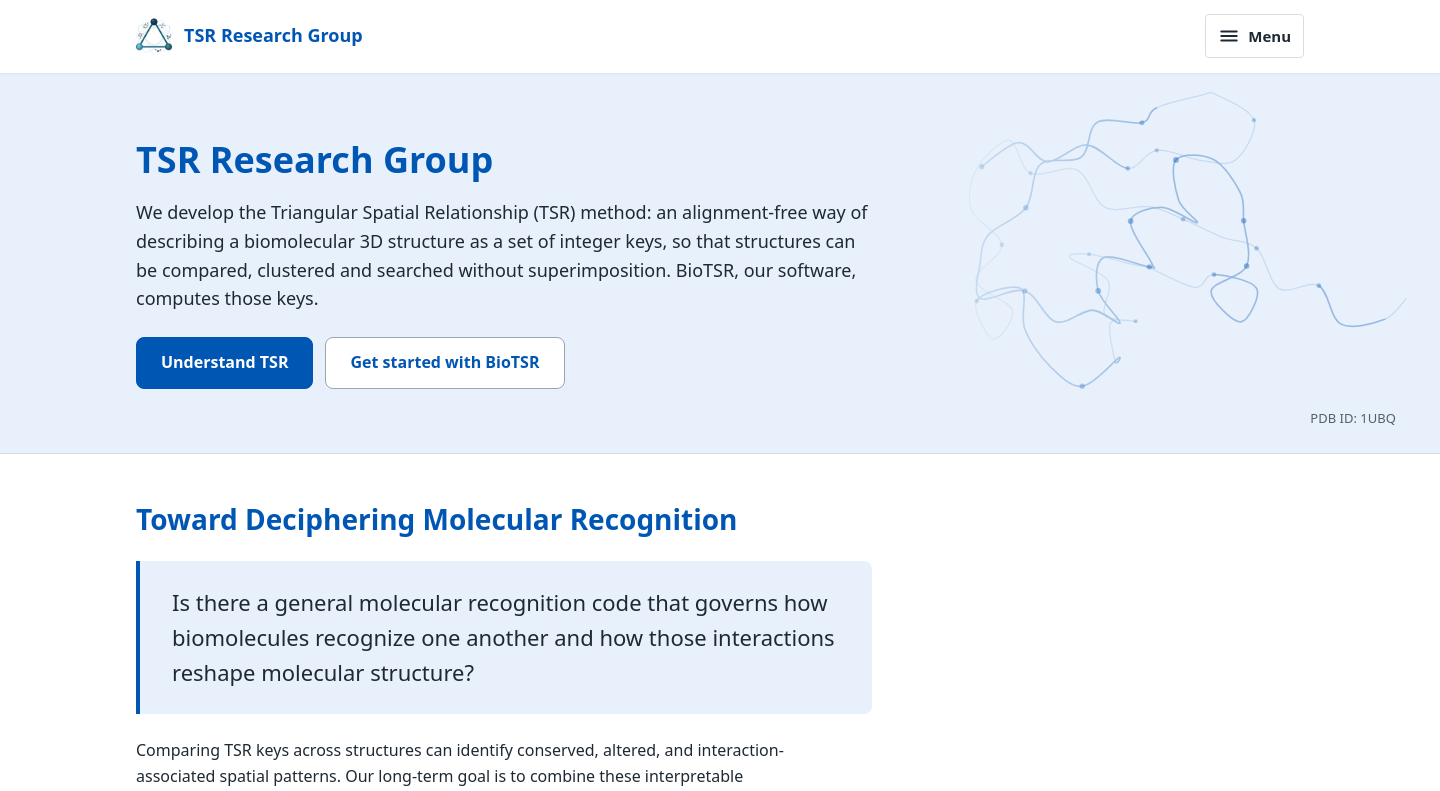
it: the sticky header › still opens the mobile drawer after scrolling
(page scrolled)
Click the button "Menu".
click(1255, 36)  # box [1205, 14, 1304, 58]
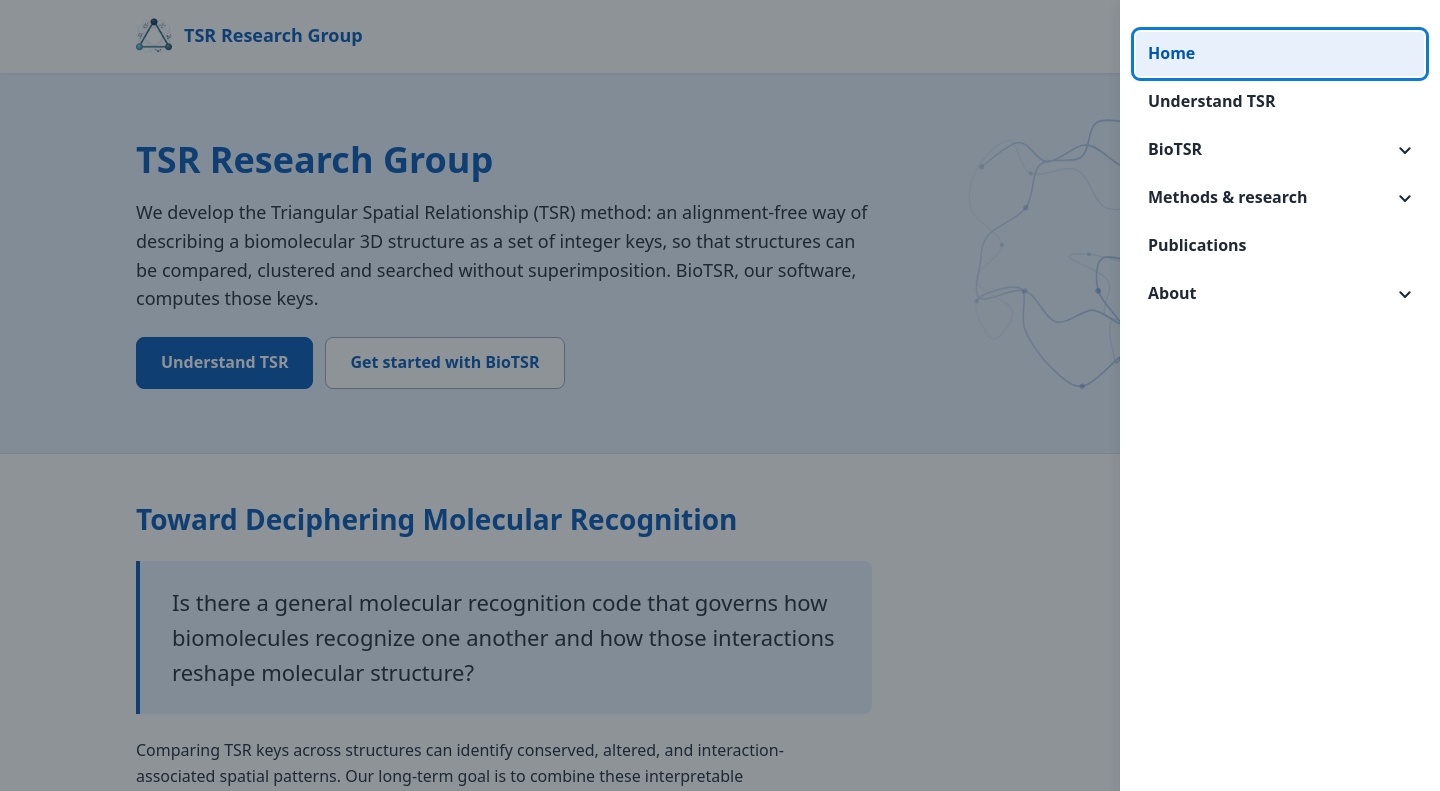
Now the button named "menu" is expanded, box [1208, 14, 1304, 58]
